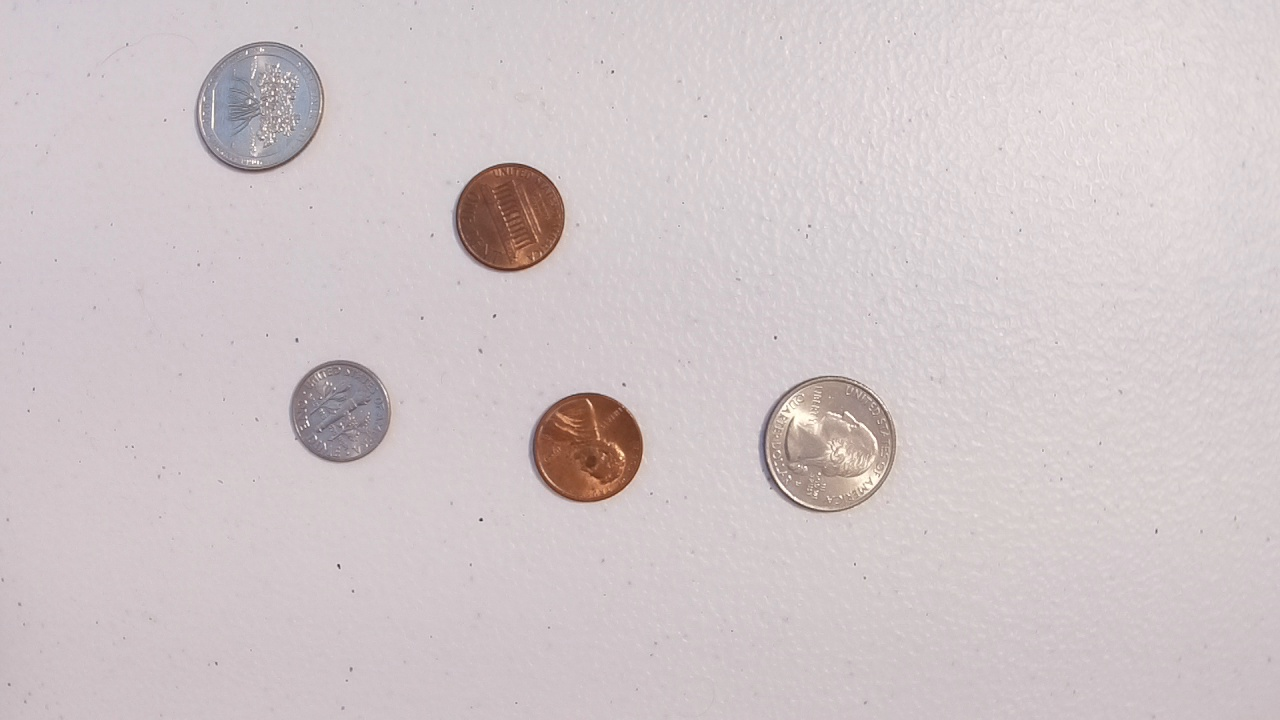dime: (285, 357, 395, 465)
penny: (528, 390, 648, 504), (450, 160, 570, 274)
quarter: (760, 372, 898, 516), (193, 37, 329, 177)
